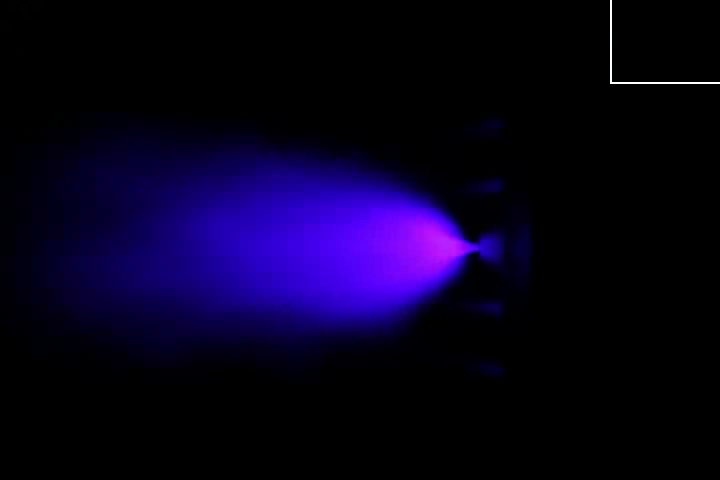burner cap: (477, 230, 512, 270)
stable: (371, 195, 477, 302)
